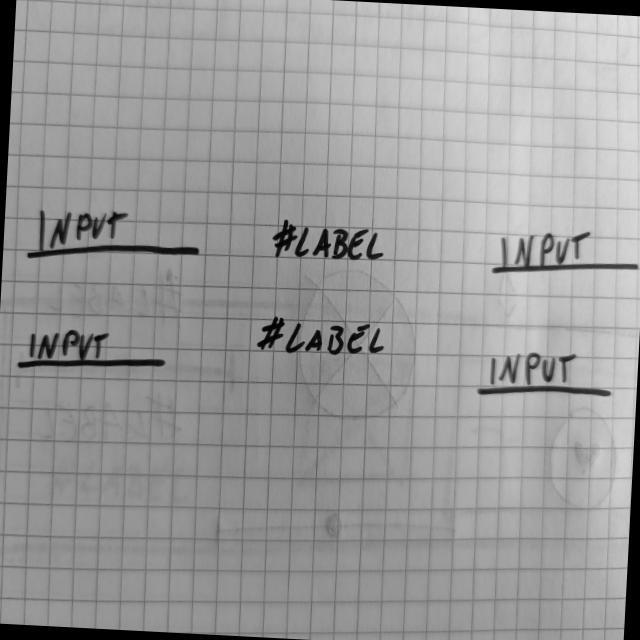input: (25, 198, 205, 273), (476, 339, 619, 409), (13, 321, 175, 382), (489, 223, 640, 285)
label: (256, 314, 391, 367), (270, 217, 388, 269)
